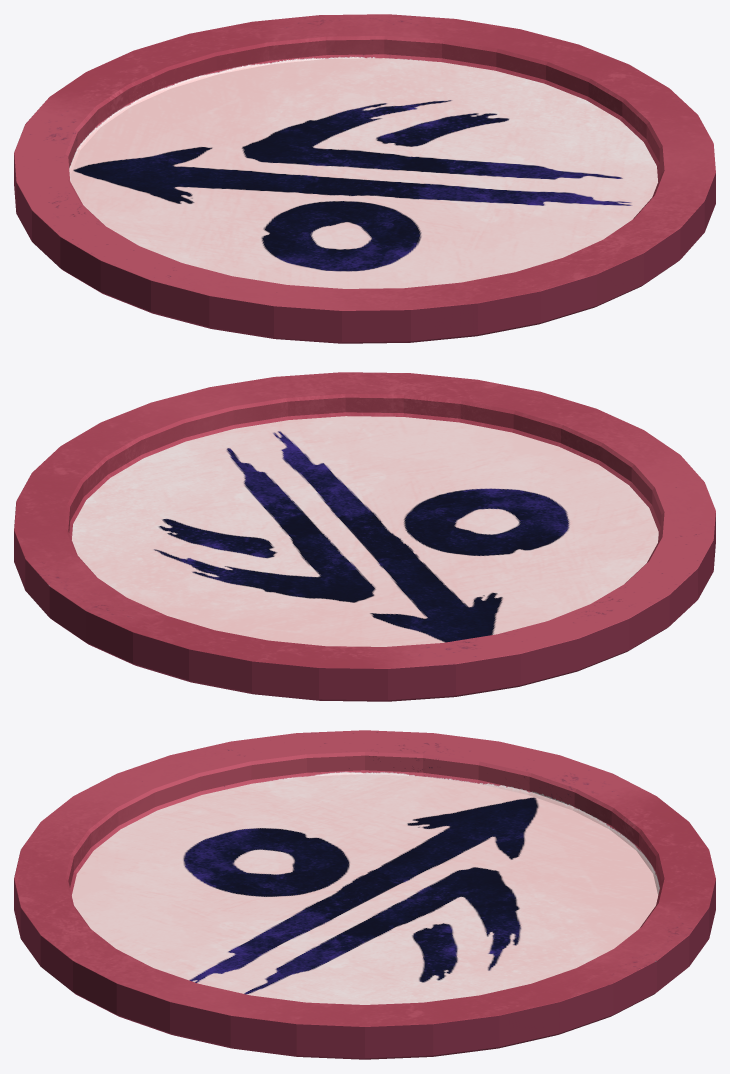
3 views of the same model, one above another, from view 1: azimuth 30°, elevation 25°; view 2: azimuth 150°, elevation 25°; view 3: azimuth 270°, elevation 25° (orthographic).
Visible parts, largest first — view 1: Cylinder.004; view 2: Cylinder.004; view 3: Cylinder.004.
Part boxes in pixels (x1,y1,x2,y2): Cylinder.004: (14,14,715,343); Cylinder.004: (14,372,715,701); Cylinder.004: (14,730,715,1059).
Size of the model in its own units: 200 by 10.74 by 200.
Materials: 3 (1 with a texture image).
